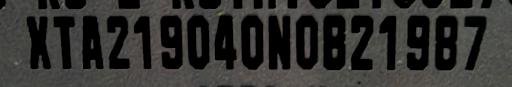letter: (460, 12, 490, 71), (431, 11, 459, 72), (401, 15, 431, 70), (153, 16, 183, 69), (319, 16, 349, 69), (22, 13, 50, 68), (236, 14, 264, 69), (104, 15, 132, 68), (350, 14, 376, 69), (51, 14, 77, 69), (184, 17, 212, 68), (78, 14, 104, 67), (292, 14, 318, 67), (266, 14, 290, 67), (376, 15, 400, 68), (212, 14, 234, 67), (133, 15, 153, 68)
